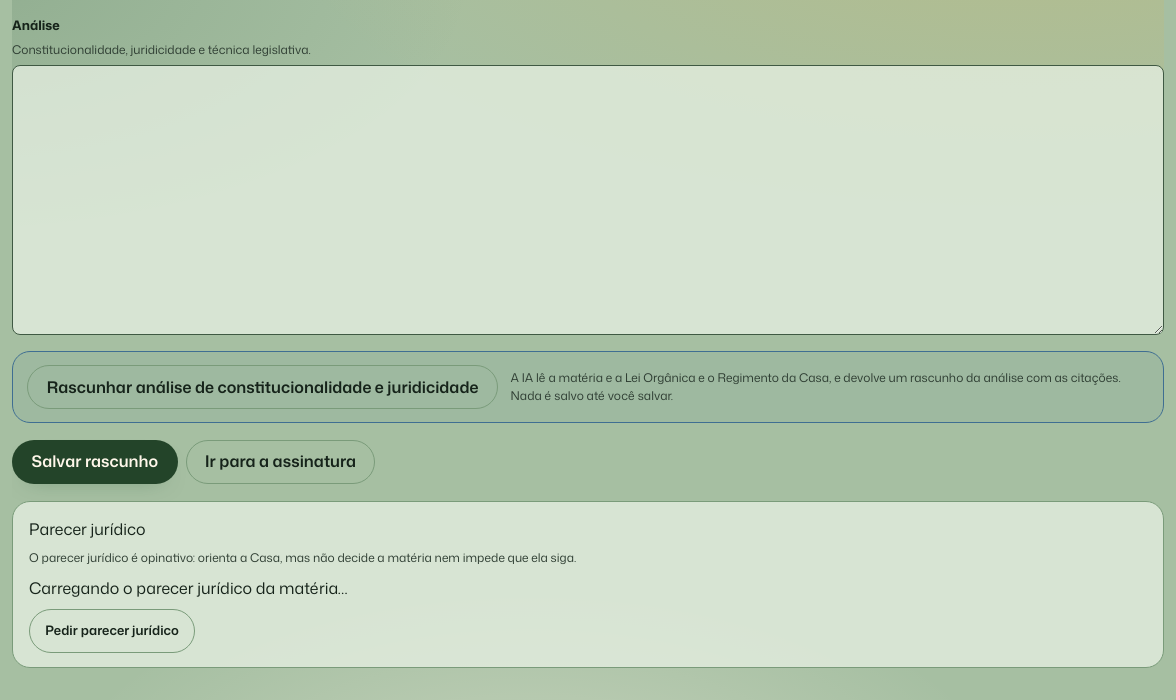
PaginaRedigirParecer (vereador-relator) › IA fora (503): a mensagem manda redigir no campo; nada muda
(page scrolled)
Click the button "Rascunhar análise de constitucionalidade e juridicidade".
click(263, 387)  # box [27,365,498,409]
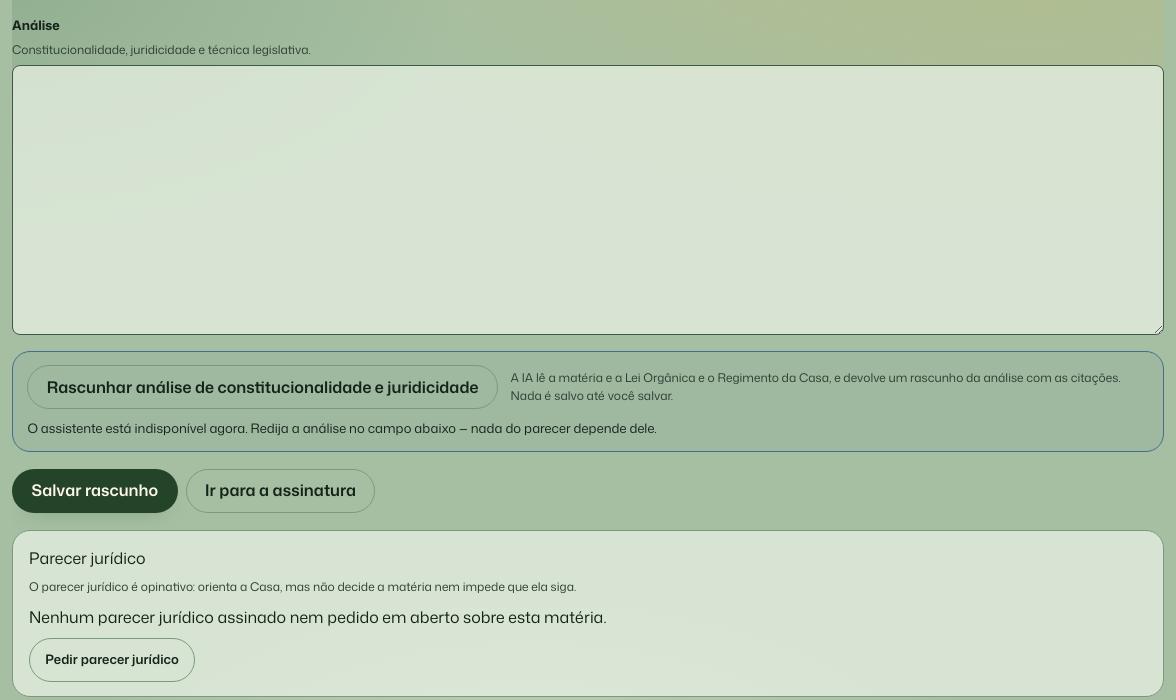
Check: the text box labelled "Análise" is empty, box [12,65,1164,335]
Check: the text "nada do parecer depende dele" is shown, box [27,419,657,437]
